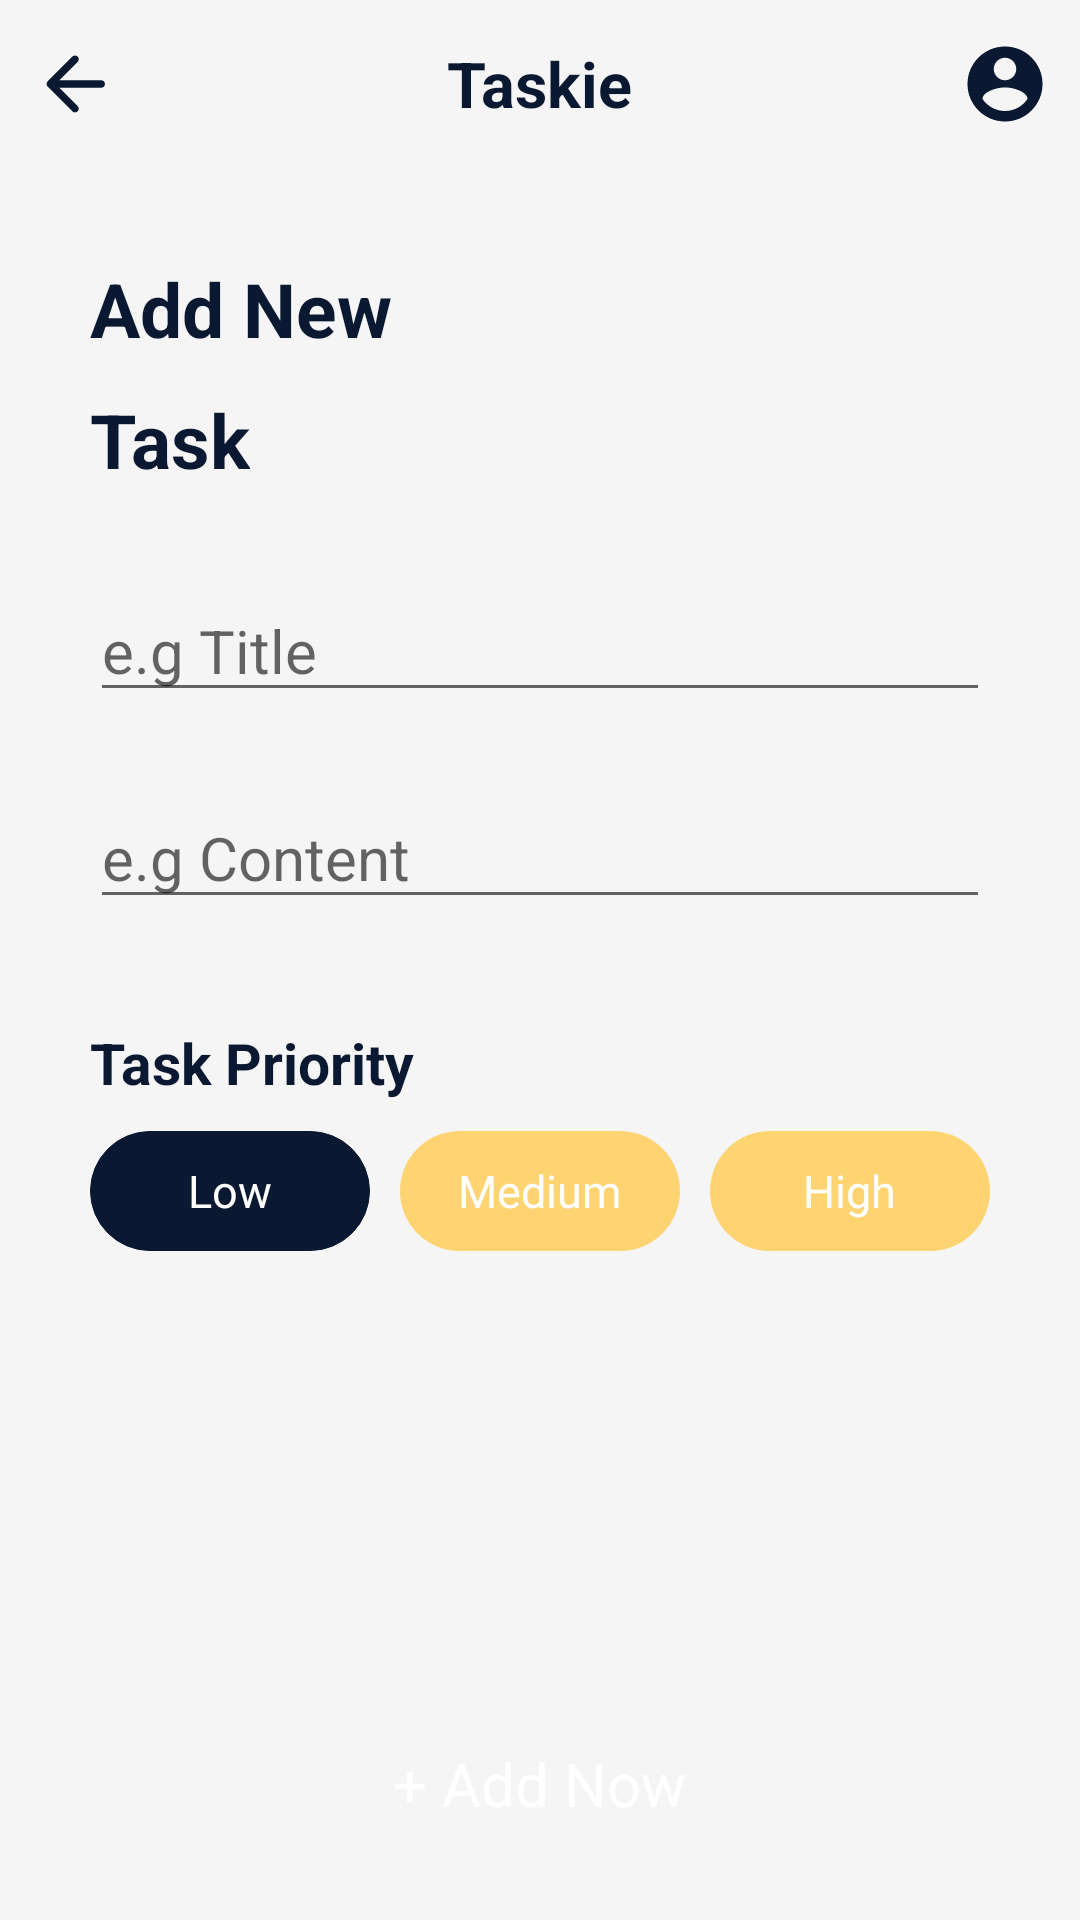

Icon click points for this 1080px×1920px phone screenshot, format (x,y):
account circle: (1005,84)
arrow back: (75,84)
